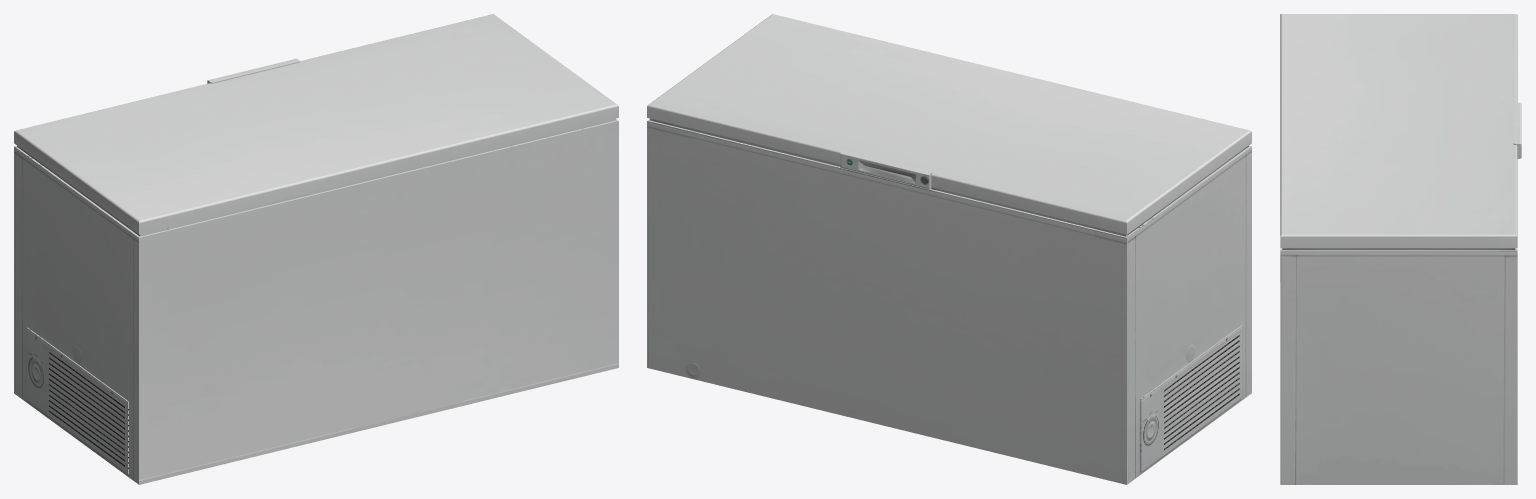
The model's file is old_freezer_chest.glb.
3 views of the same model, side by side, from view 1: azimuth 30°, elevation 25°; view 2: azimuth 150°, elevation 25°; view 3: azimuth 270°, elevation 25° (orthographic). The views are drawn at different scales.
Visible parts, largest first — view 1: Object_6, Object_7, Object_10, Object_9; view 2: Object_7, Object_10, Object_9; view 3: Object_9, Object_7, Object_6.
Part boxes in pixels (x1,y1,x2,y2): Object_6: [139, 59, 618, 484]; Object_7: [14, 14, 615, 220]; Object_10: [14, 132, 140, 484]; Object_9: [14, 14, 618, 237]; Object_7: [647, 14, 1248, 484]; Object_10: [1126, 132, 1251, 484]; Object_9: [647, 14, 1251, 234]; Object_9: [1280, 14, 1517, 484]; Object_7: [1282, 14, 1521, 250]; Object_6: [1513, 102, 1521, 158].
Bounding box in the file's own units: 1.58 × 0.8286 × 0.7238.
5 materials, 4 textured.
